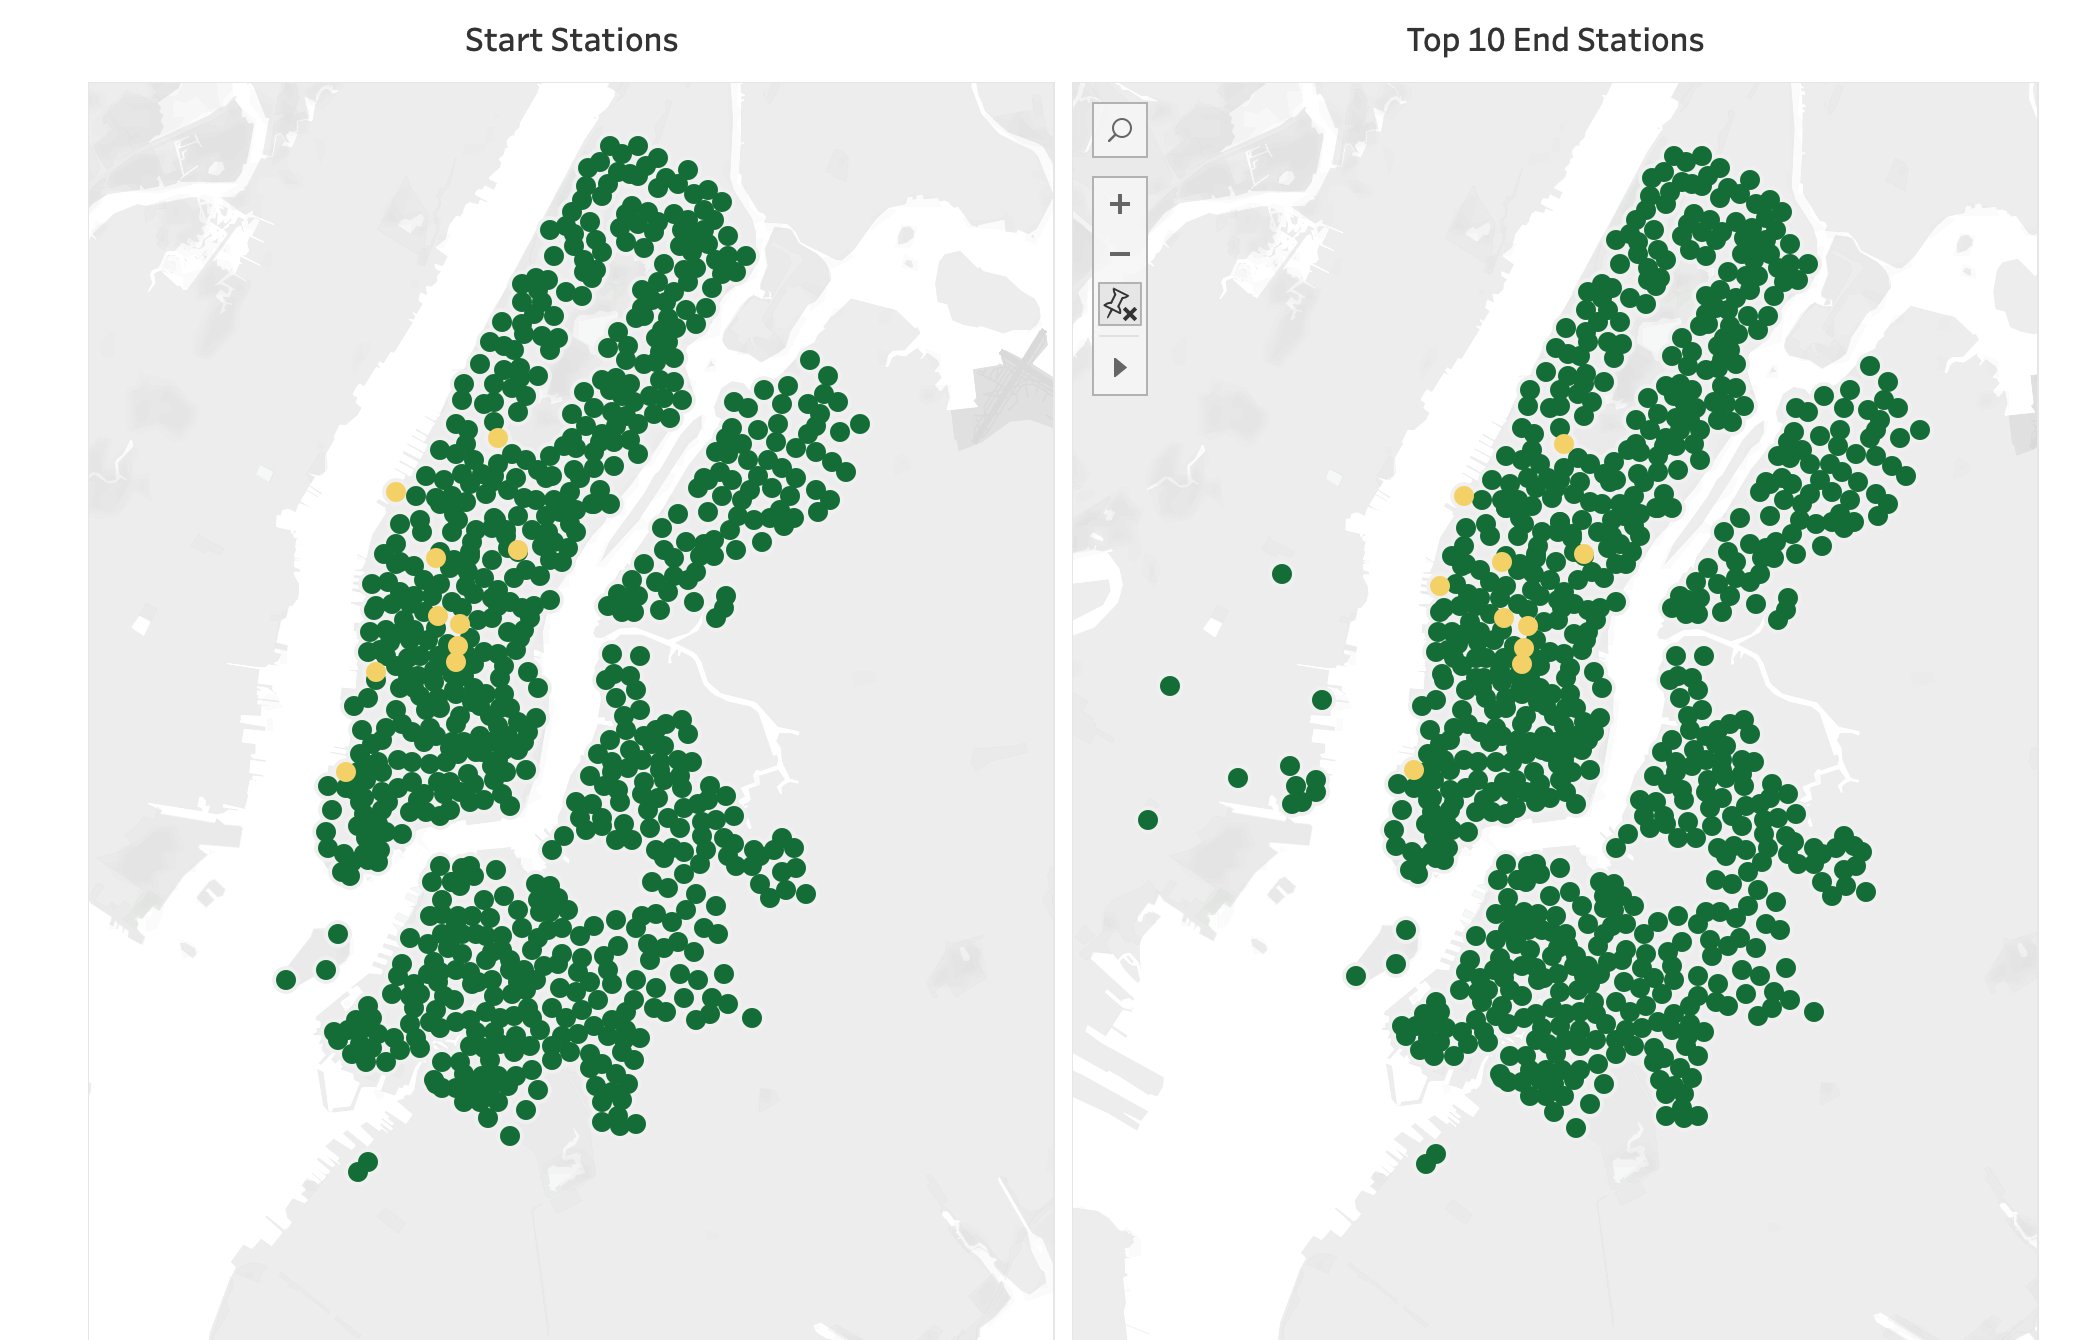

Layout of this report page (visuals, bound fields, positions):
{"tool":"tableau","page":{"name":"Dashboard 3","canvas":[1000,800],"ordinal":2},"visuals":[{"type":"worksheet","title":"Map Start","mark":"Automatic","rows":["start station latitude"],"cols":["start station longitude"],"box":[8,8,492,784]},{"type":"worksheet","title":"Map End","mark":"Automatic","rows":["end station latitude"],"cols":["end station longitude"],"box":[500,8,492,784]}]}

Visuals, with their boxes on the page's 1000x800 design canvas (x1, y1, x2, y2). These are canvas units, not pixel positions in the 2100x1340 screenshot, which may show the page scaled, cropped or inside an application window:
"Map Start" worksheet: x1=8, y1=8, x2=500, y2=792
"Map End" worksheet: x1=500, y1=8, x2=992, y2=792
